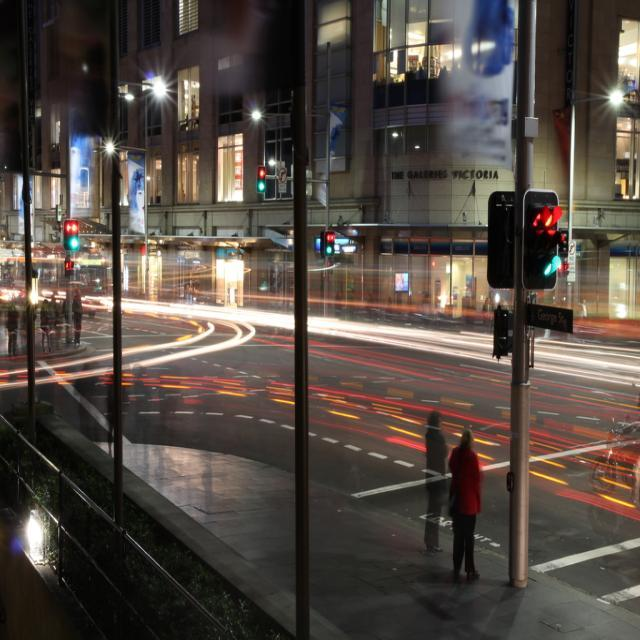traffic light: (524, 198, 564, 287)
